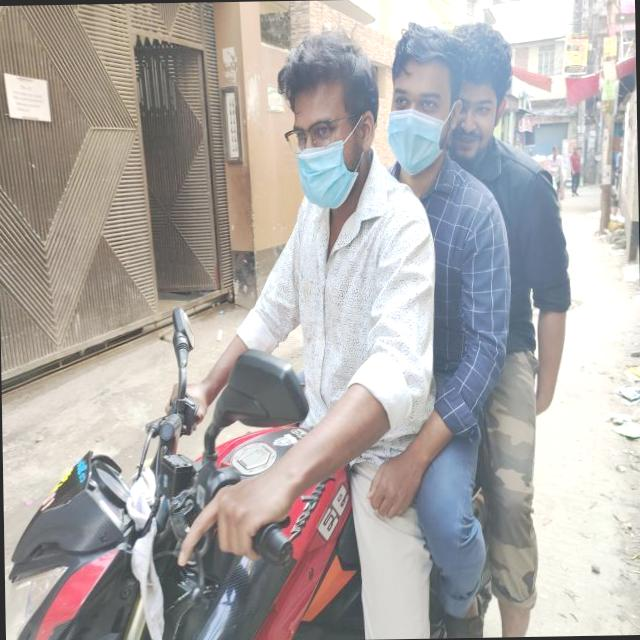motorcycle: (1, 383, 510, 640)
person: (222, 26, 438, 528), (397, 18, 578, 448), (354, 18, 510, 441)
rider_region: (0, 14, 585, 640)
